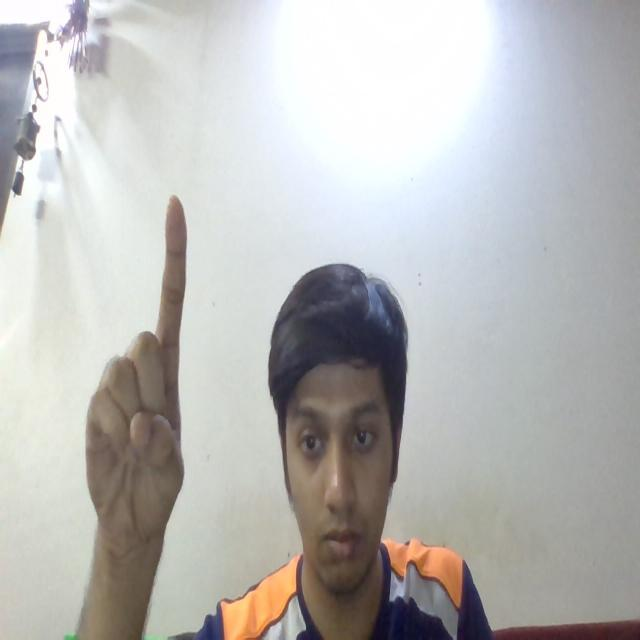Z: (60, 177, 204, 553)
